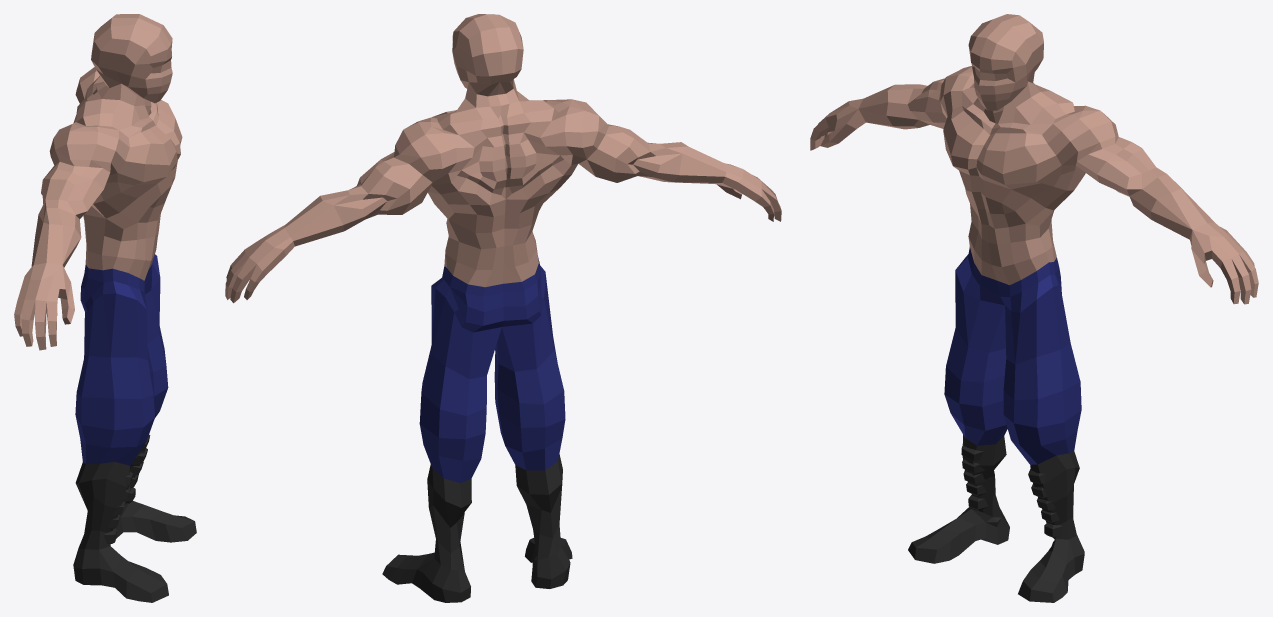
The model's file is humano1.obj.
3 views of the same model, side by side, from view 1: azimuth 30°, elevation 25°; view 2: azimuth 150°, elevation 25°; view 3: azimuth 270°, elevation 25° (orthographic). The views are drawn at different scales.
Visible parts, largest first — view 1: char.001_Plane.000; view 2: char.001_Plane.000; view 3: char.001_Plane.000.
Part boxes in pixels (<box>): char.001_Plane.000: <box>14,14,196,602</box>; char.001_Plane.000: <box>225,14,781,602</box>; char.001_Plane.000: <box>810,14,1258,602</box>.
Size of the model in its own units: 1.67 by 2.56 by 1.91.
